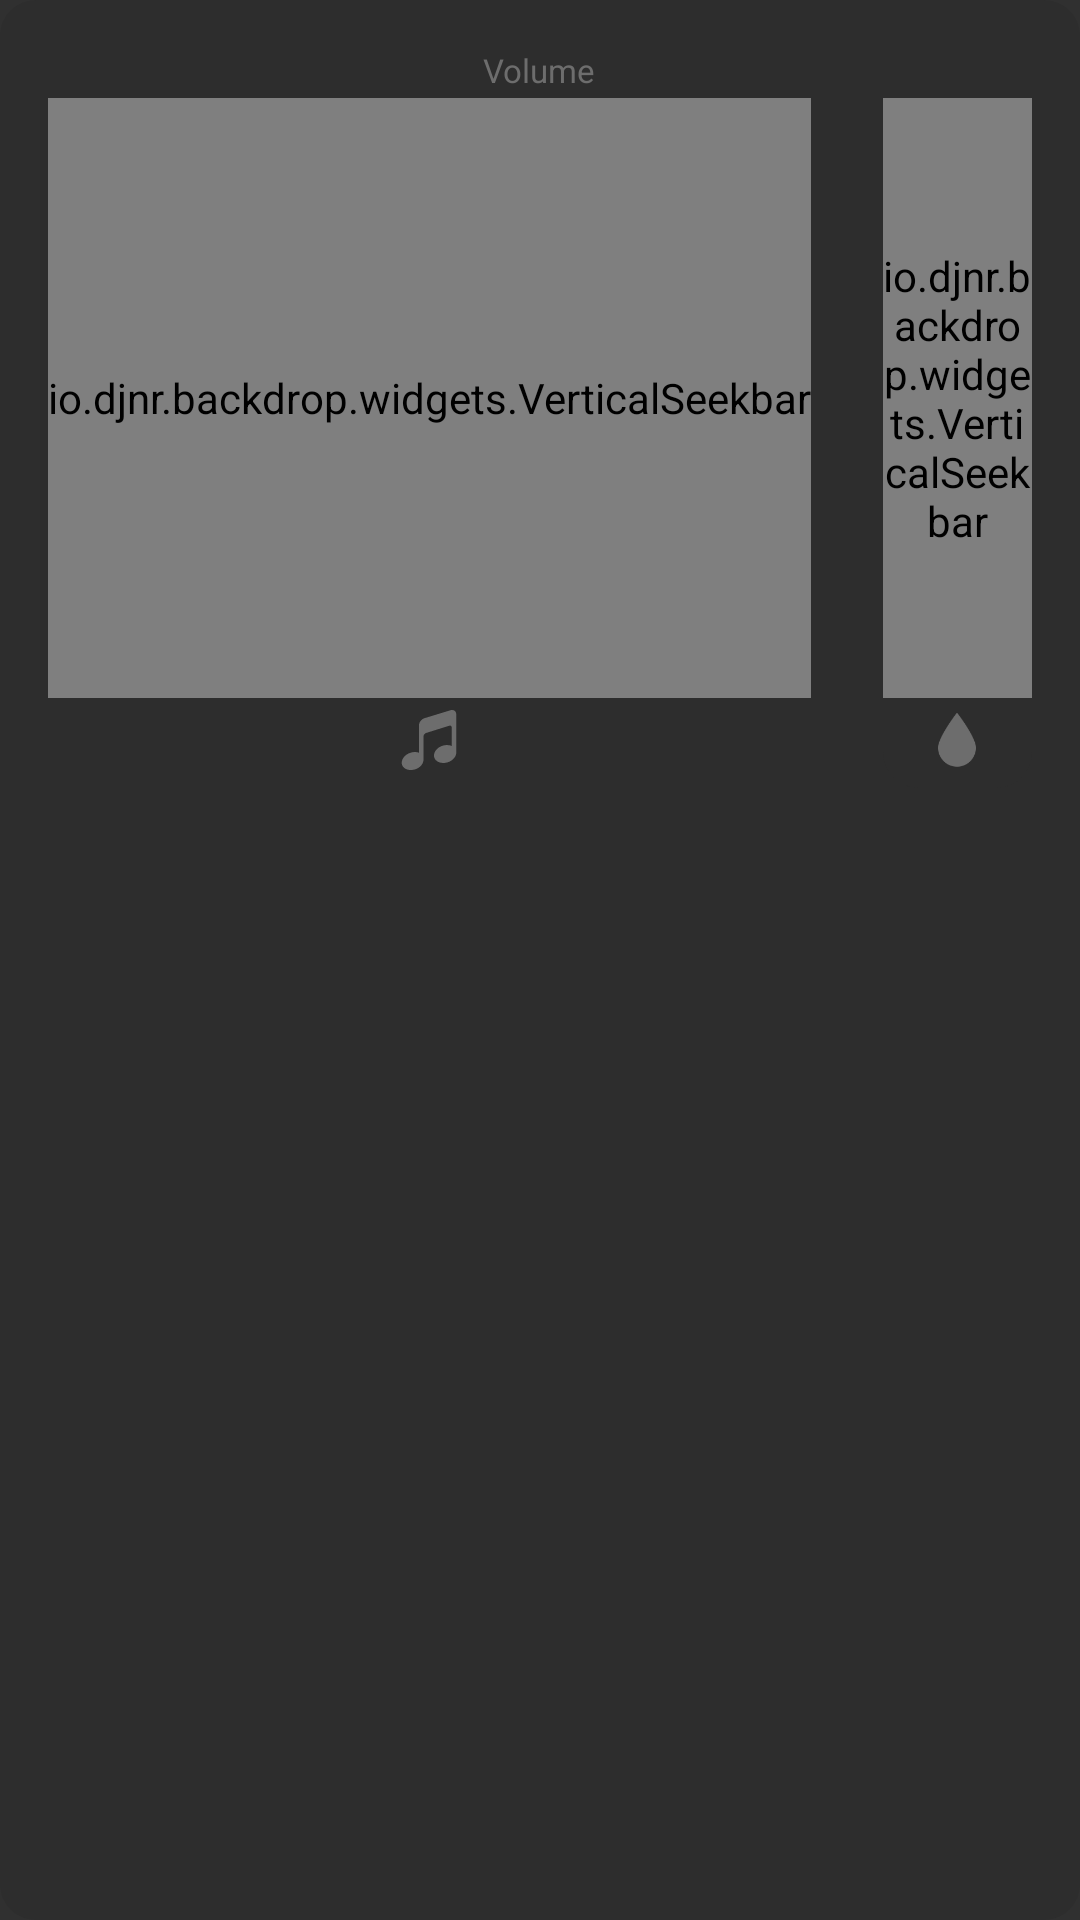

Screen size 1080 x 1920. Icon name, then its center in pixels as (x,y):
note: (429,740)
